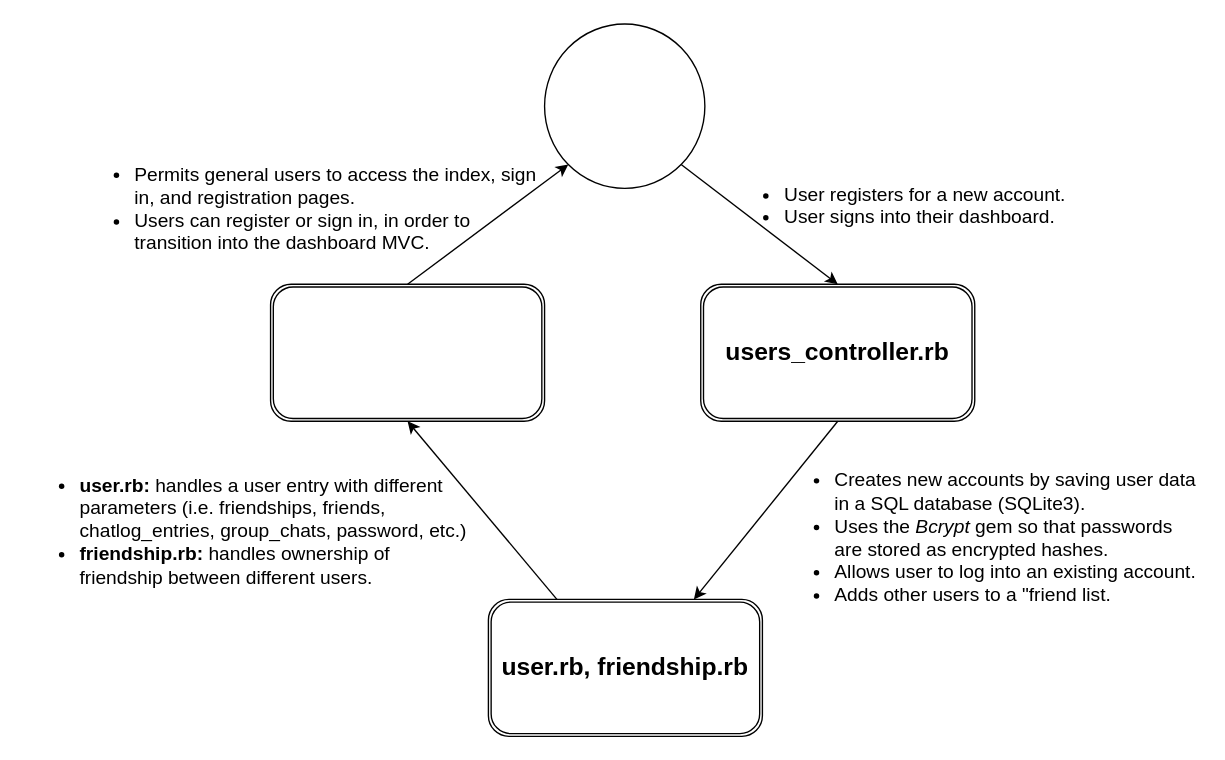
This 1225x760 diagram has some shape labels left out. Each missing label, with the centre of its shape:
"/app/views/users" goes at pixel 407 352.
"USER" goes at pixel 624 105.
